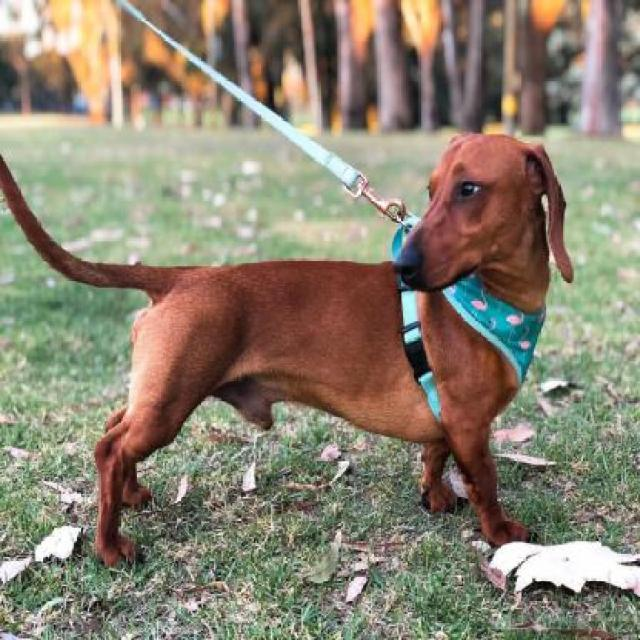Dog: (3, 115, 577, 577)
